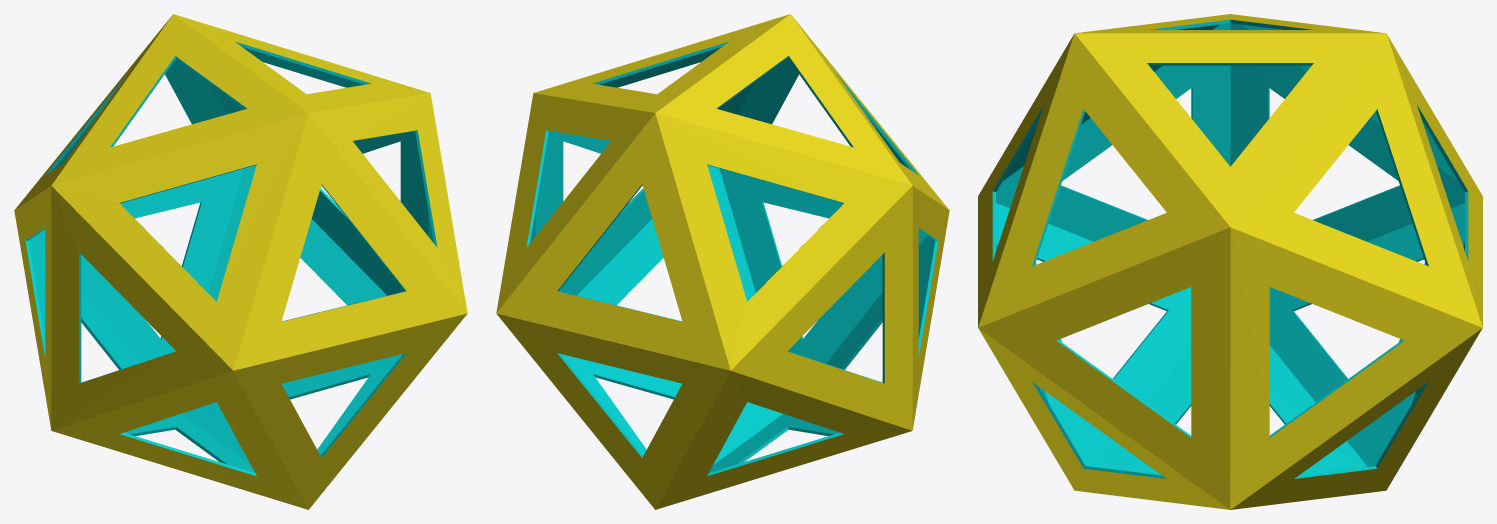
Rendered from _IcosahedronS1.glb.
The picture shows the model from 3 angles, left to right: view 1: azimuth 30°, elevation 25°; view 2: azimuth 150°, elevation 25°; view 3: azimuth 270°, elevation 25°; orthographic projection. The views are drawn at different scales.
Visible parts, largest first — view 1: root; view 2: root; view 3: root.
Part boxes in pixels (x1,y1,x2,y2): root: (14,14,467,509); root: (496,14,949,509); root: (978,14,1482,509).
Bounding box in the file's own units: 4.88 × 4.88 × 4.88.
